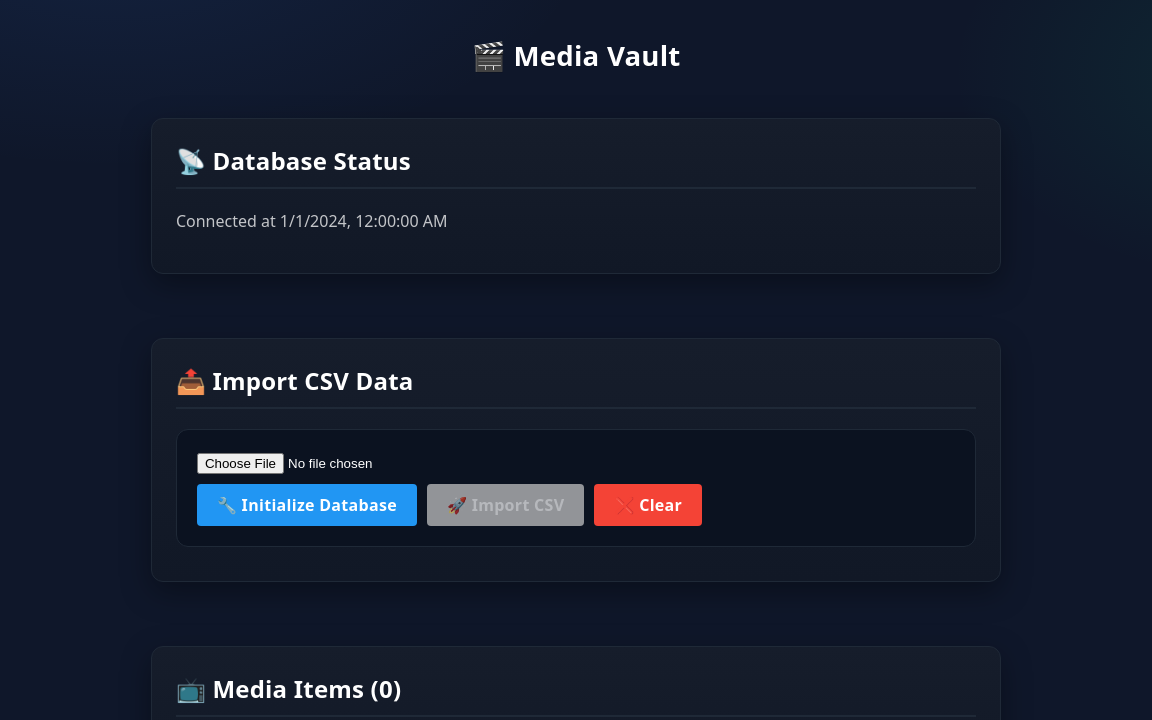
Scenario: App Component › CSV Import Section › should handle database initialization failure
What coordinates should you click on to do the following:
click the button "🔧 Initialize Database"
I would click on:
 (307, 505)
Its box is [197,484,417,526].
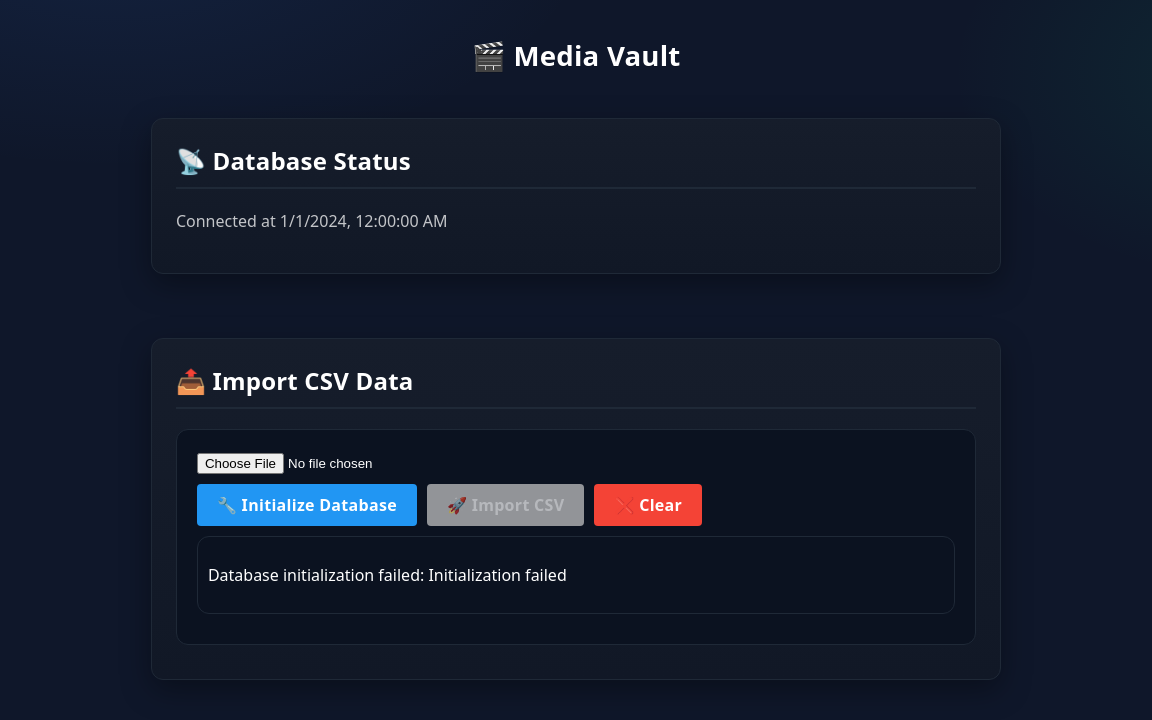
Check: the text "Database initialization failed: Initialization failed" is shown, box [208,564,567,586]
